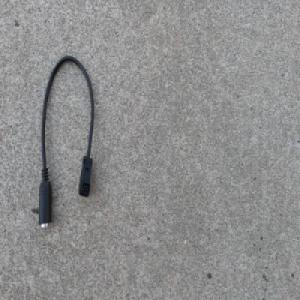Wire: (36, 52, 96, 235)
